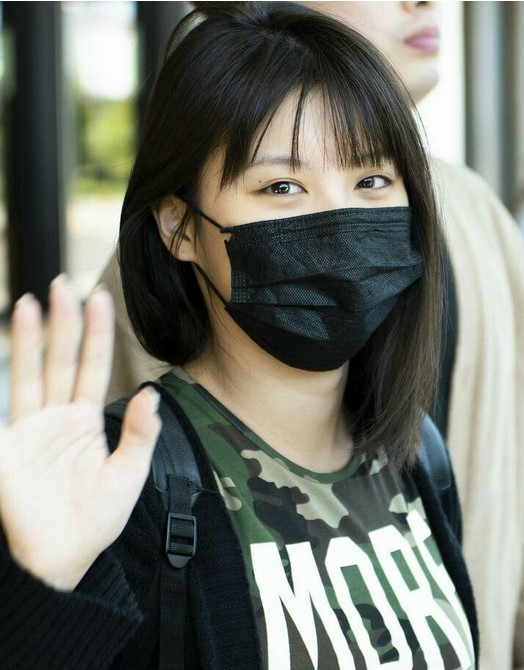face_with_mask: (144, 7, 429, 374)
